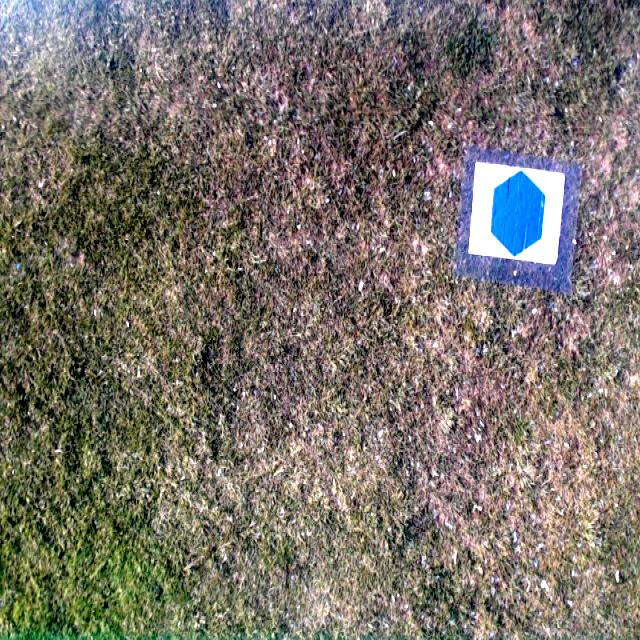blue_hexagon: (490, 170, 546, 258)
